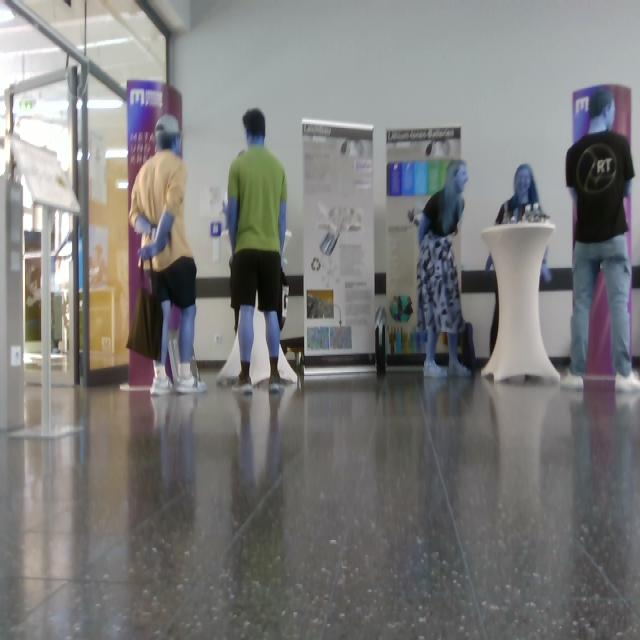door: (301, 118, 377, 372), (84, 66, 131, 384)
light bulb: (318, 202, 363, 256), (320, 230, 340, 256), (281, 229, 293, 266), (134, 214, 151, 236)
person: (560, 89, 640, 394), (129, 114, 208, 396), (227, 108, 291, 394), (408, 160, 474, 378), (484, 164, 553, 357)
tiled floor: (1, 365, 640, 640)
